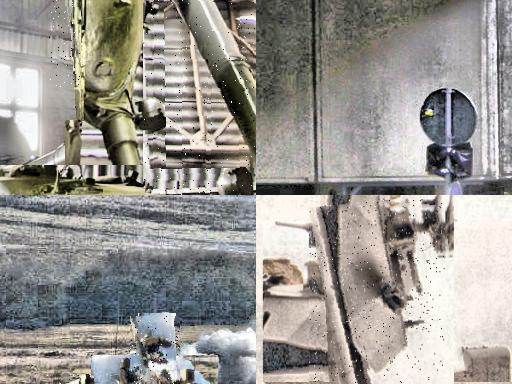tanks: (311, 201, 446, 384), (181, 1, 257, 147), (132, 318, 180, 384), (64, 1, 82, 89), (65, 376, 93, 384)
